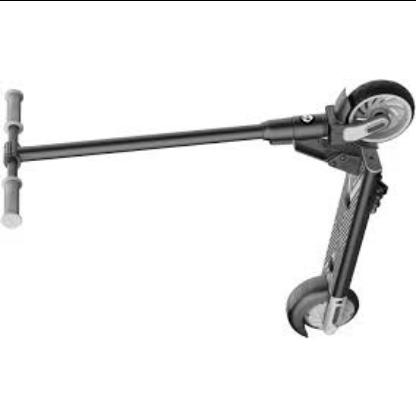bike: (1, 78, 416, 341)
